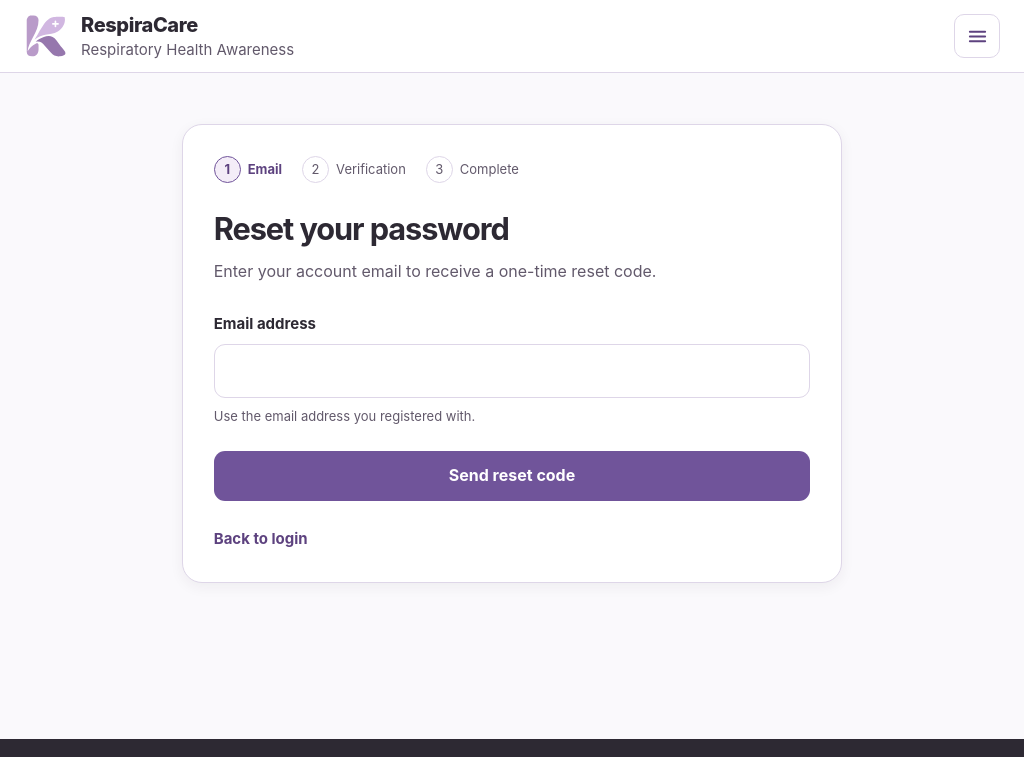
it: forgotten-password recovery › explains the invalid_code response without logging in
Type "PERSON@EXAMPLE.COM" into the field labelled "Email address" at [512, 371], box [214, 344, 810, 398]
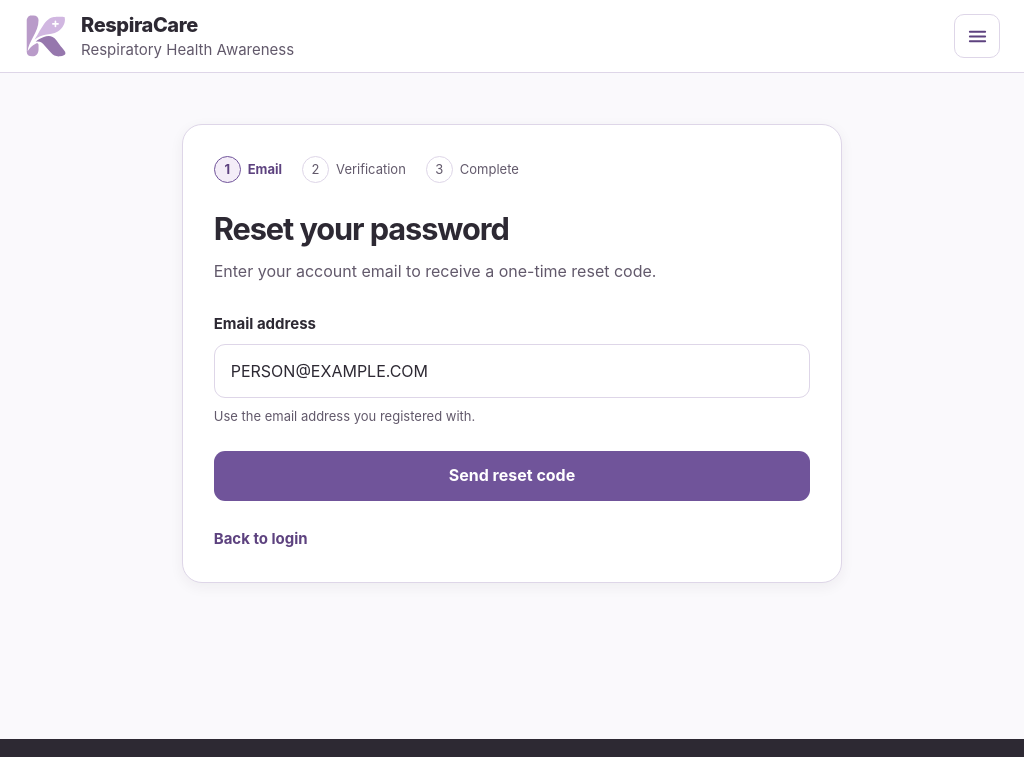
Click the button "Send reset code" at [512, 476], box [214, 451, 810, 501]
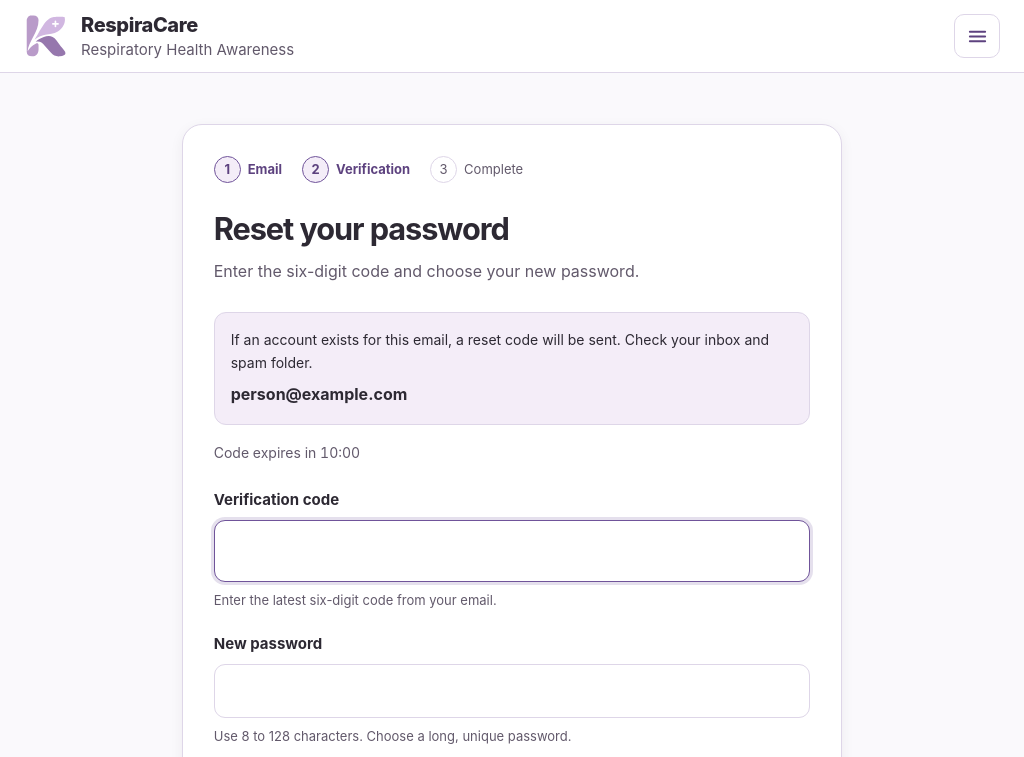
Check: the field labelled "Verification code" is shown
Type "012345" into the field labelled "Verification code" at [512, 551], box [214, 520, 810, 582]
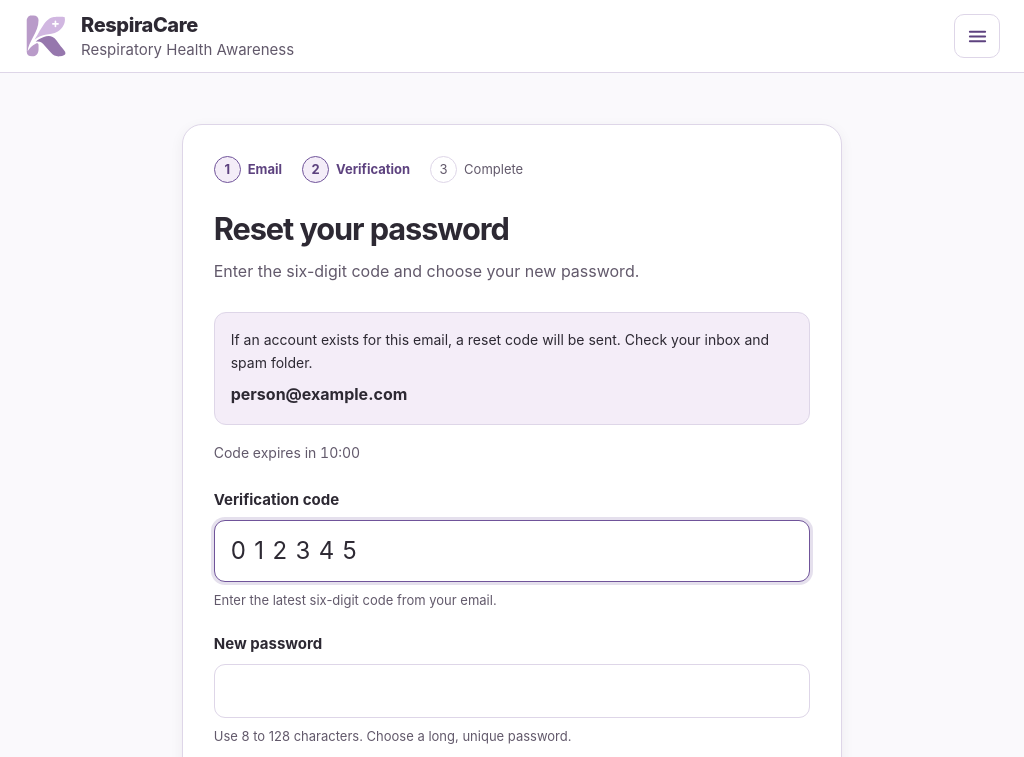
Type "SyntheticNewPassword123!" into the password field labelled "New password" at [512, 691], box [214, 664, 810, 718]
(page scrolled)
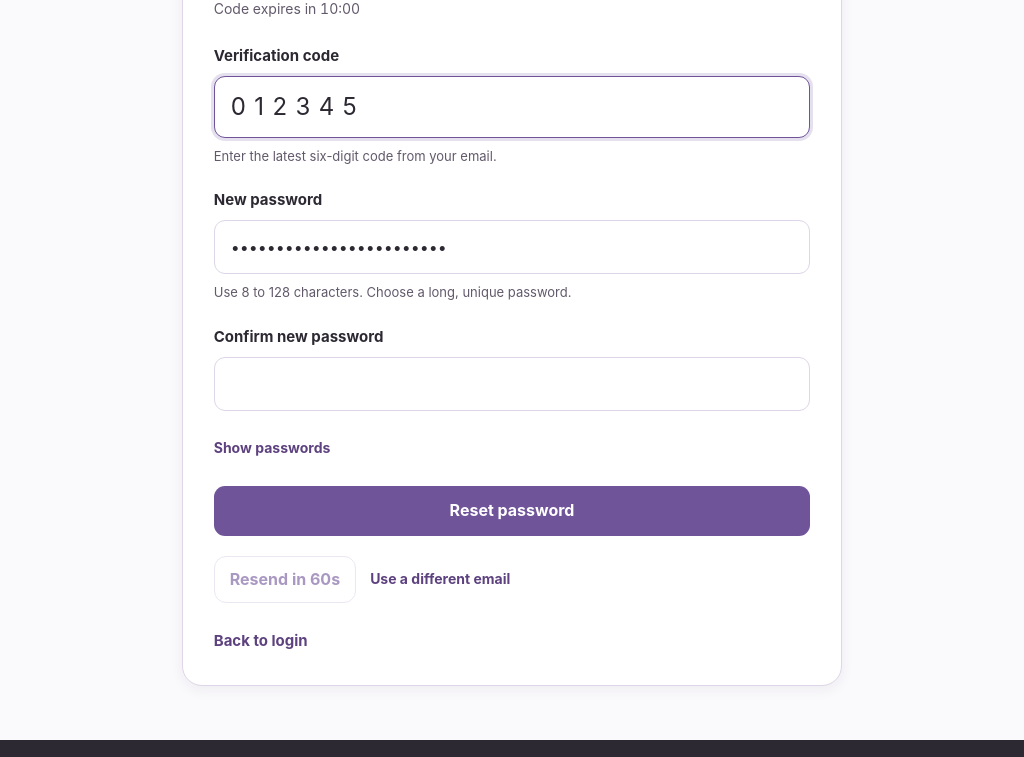
Type "SyntheticNewPassword123!" into the password field labelled "Confirm new password" at [512, 384], box [214, 357, 810, 411]
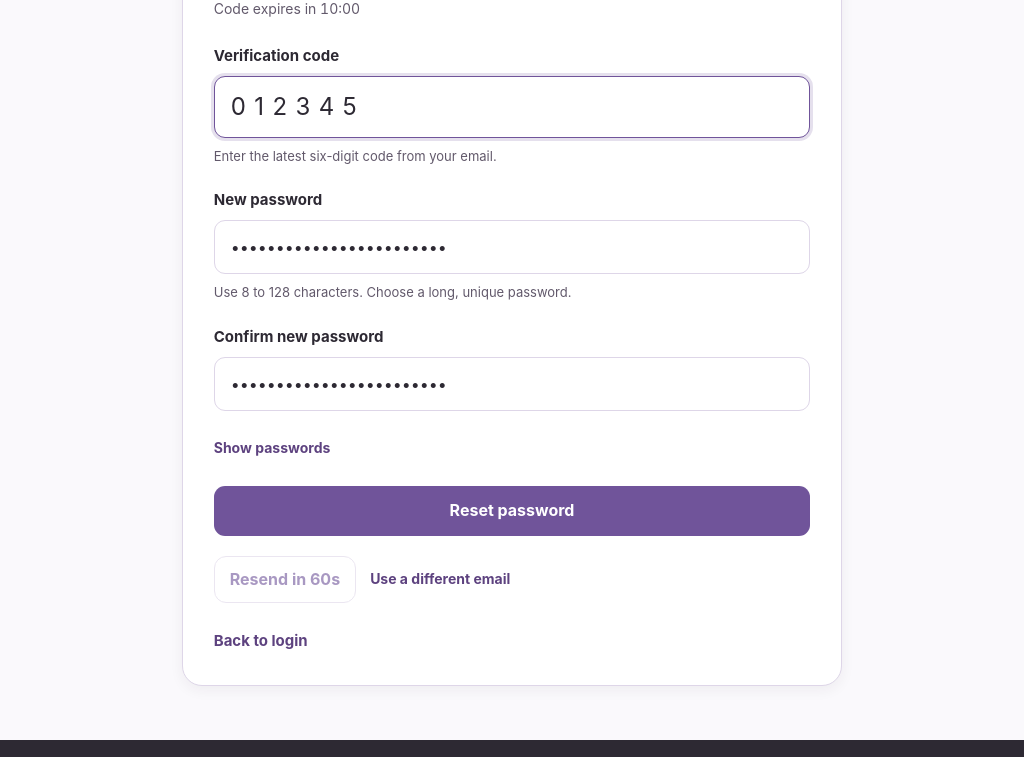
Click the button "Reset password" at [512, 511], box [214, 486, 810, 536]
(page scrolled)
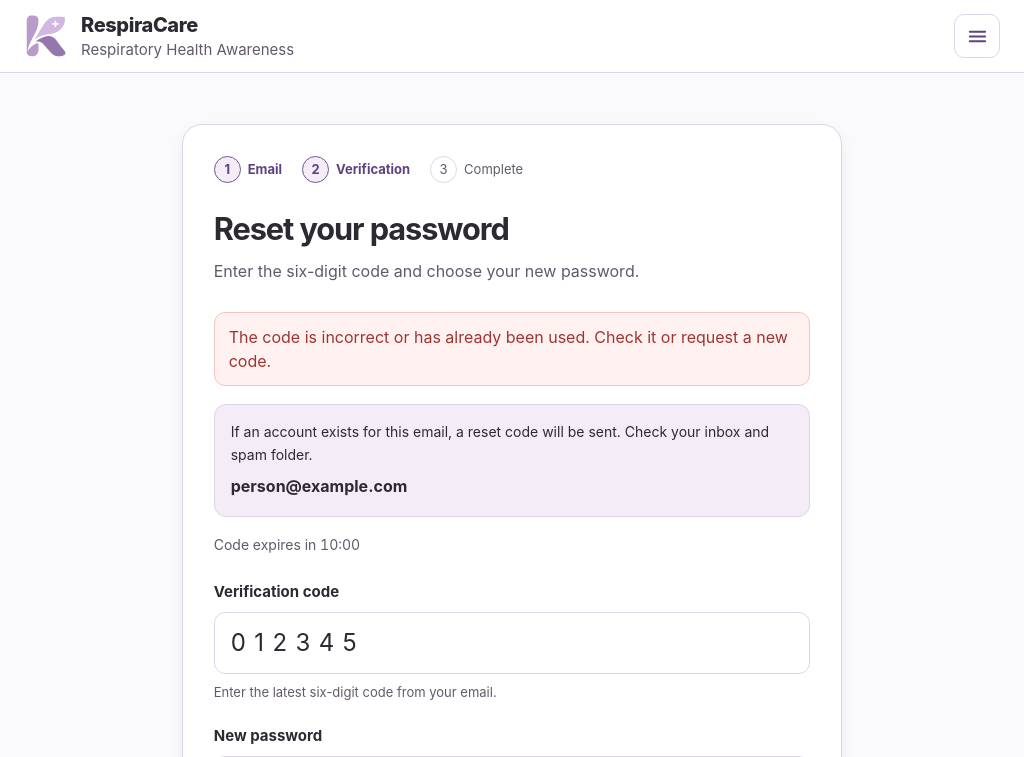
Check: the 1st message shows "code is incorrect or has already been used", box [229, 327, 788, 371]
